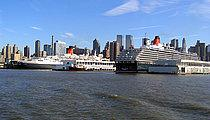Ship: (122, 42, 196, 75), (57, 59, 116, 74)
